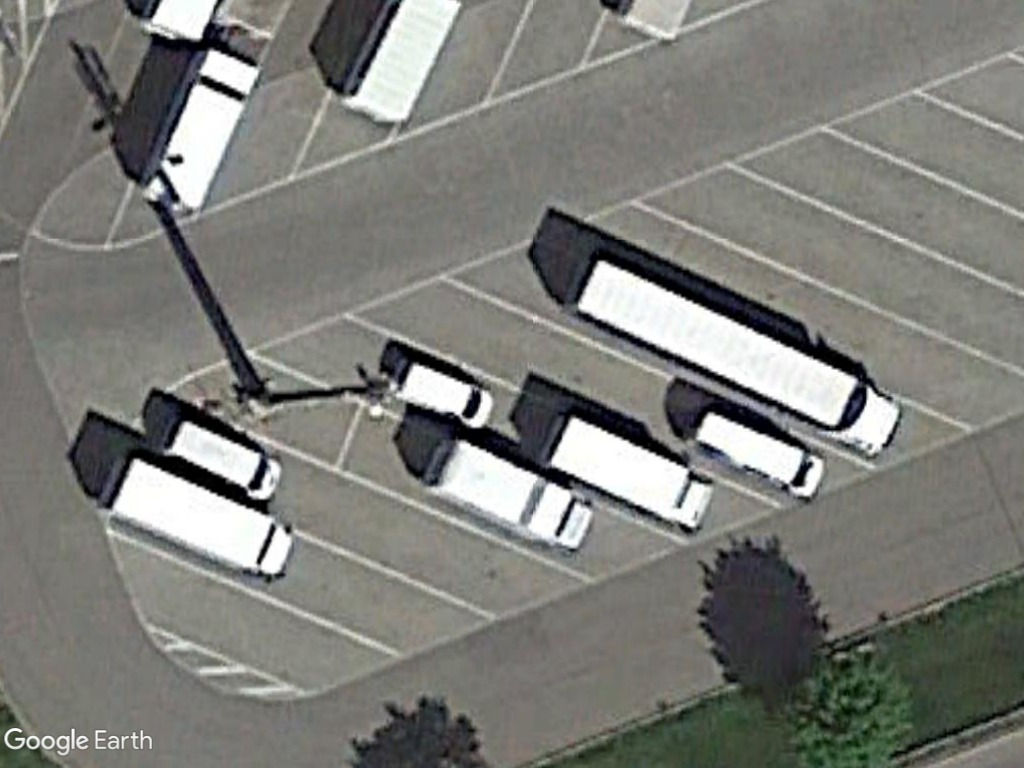longvehicle: (562, 249, 904, 461)
truck: (93, 453, 302, 588), (417, 434, 593, 559), (532, 412, 713, 530)
van: (683, 407, 829, 503), (159, 412, 287, 501), (384, 353, 495, 432)
